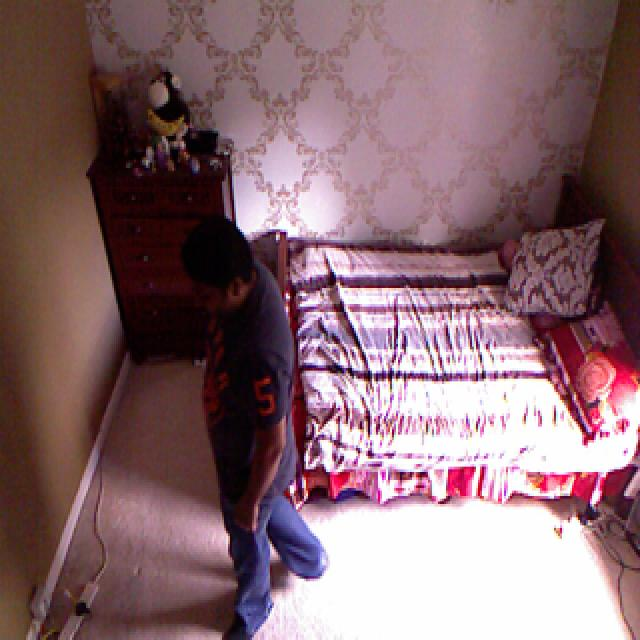standing: (190, 221, 333, 640)
